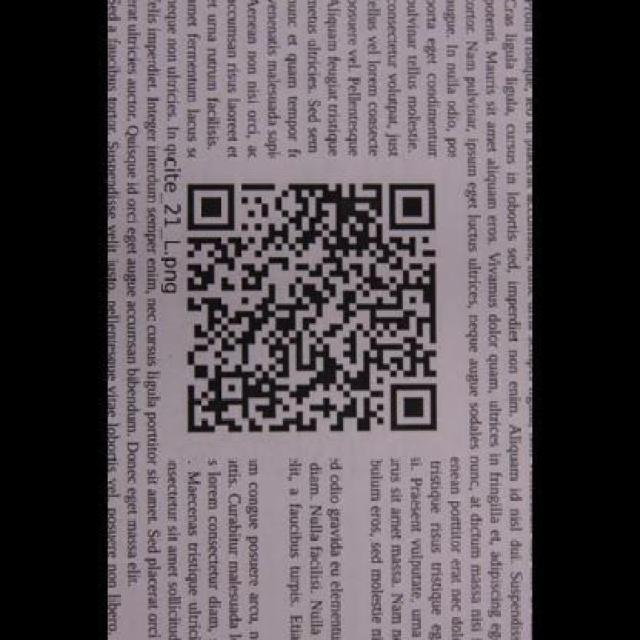QRCode: (178, 175, 451, 438)
